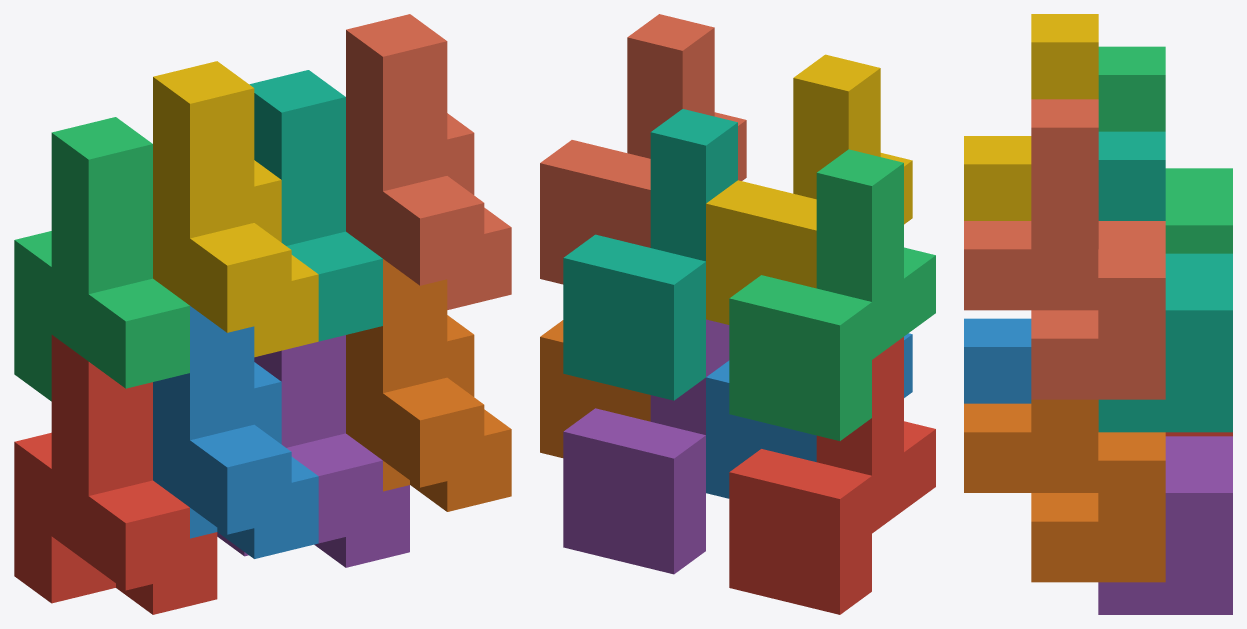
File: tiling.obj
3 views of the same model, side by side, from view 1: azimuth 30°, elevation 25°; view 2: azimuth 150°, elevation 25°; view 3: azimuth 270°, elevation 25° (orthographic). The views are drawn at different scales.
Visible parts, largest first — view 1: copy_1_domain_1, copy_1_domain_3, copy_1_domain_4, copy_1_domain_8, copy_1_domain_2, copy_1_domain_6, copy_1_domain_7, copy_1_domain_5; view 2: copy_1_domain_3, copy_1_domain_7, copy_1_domain_1, copy_1_domain_5, copy_1_domain_4, copy_1_domain_8, copy_1_domain_2, copy_1_domain_6; view 3: copy_1_domain_8, copy_1_domain_6, copy_1_domain_7, copy_1_domain_5, copy_1_domain_3, copy_1_domain_4, copy_1_domain_2.
Part boxes in pixels (x1=…): copy_1_domain_1: x1=14, y1=335, x2=217, y2=614; copy_1_domain_3: x1=14, y1=117, x2=189, y2=401; copy_1_domain_4: x1=153, y1=61, x2=318, y2=357; copy_1_domain_8: x1=346, y1=14, x2=511, y2=309; copy_1_domain_2: x1=153, y1=306, x2=318, y2=558; copy_1_domain_6: x1=346, y1=259, x2=511, y2=511; copy_1_domain_7: x1=249, y1=70, x2=382, y2=341; copy_1_domain_5: x1=217, y1=335, x2=409, y2=567; copy_1_domain_3: x1=729, y1=149, x2=935, y2=440; copy_1_domain_7: x1=563, y1=109, x2=737, y2=400; copy_1_domain_1: x1=729, y1=337, x2=935, y2=614; copy_1_domain_5: x1=563, y1=319, x2=729, y2=574; copy_1_domain_4: x1=706, y1=54, x2=912, y2=324; copy_1_domain_8: x1=540, y1=14, x2=746, y2=284; copy_1_domain_2: x1=706, y1=333, x2=912, y2=498; copy_1_domain_6: x1=540, y1=320, x2=650, y2=457; copy_1_domain_8: x1=964, y1=99, x2=1165, y2=399; copy_1_domain_6: x1=964, y1=399, x2=1165, y2=582; copy_1_domain_7: x1=1098, y1=131, x2=1232, y2=432; copy_1_domain_5: x1=1098, y1=436, x2=1232, y2=614; copy_1_domain_3: x1=1098, y1=46, x2=1232, y2=253; copy_1_domain_4: x1=964, y1=14, x2=1098, y2=220; copy_1_domain_2: x1=964, y1=318, x2=1031, y2=403.
Size of the model in its own units: 6 by 8 by 4.
